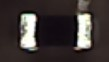COMP: (12, 7, 100, 56)
STAN: (75, 1, 91, 15)
